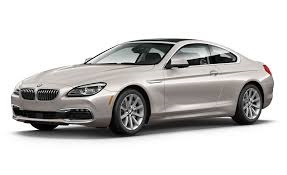bmw: (10, 34, 281, 138)
